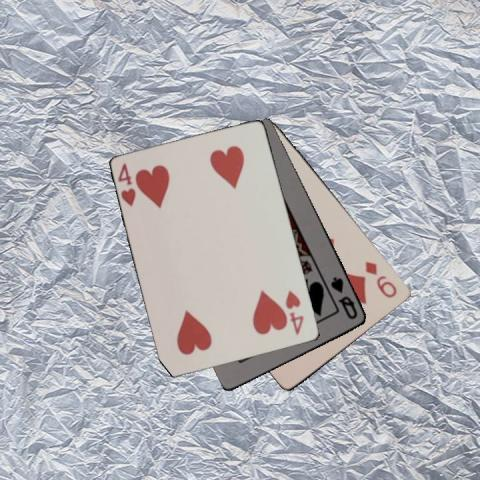4h: (284, 287, 306, 336), (116, 160, 138, 209)
9d: (362, 258, 399, 300)
Qs: (328, 273, 360, 322)
